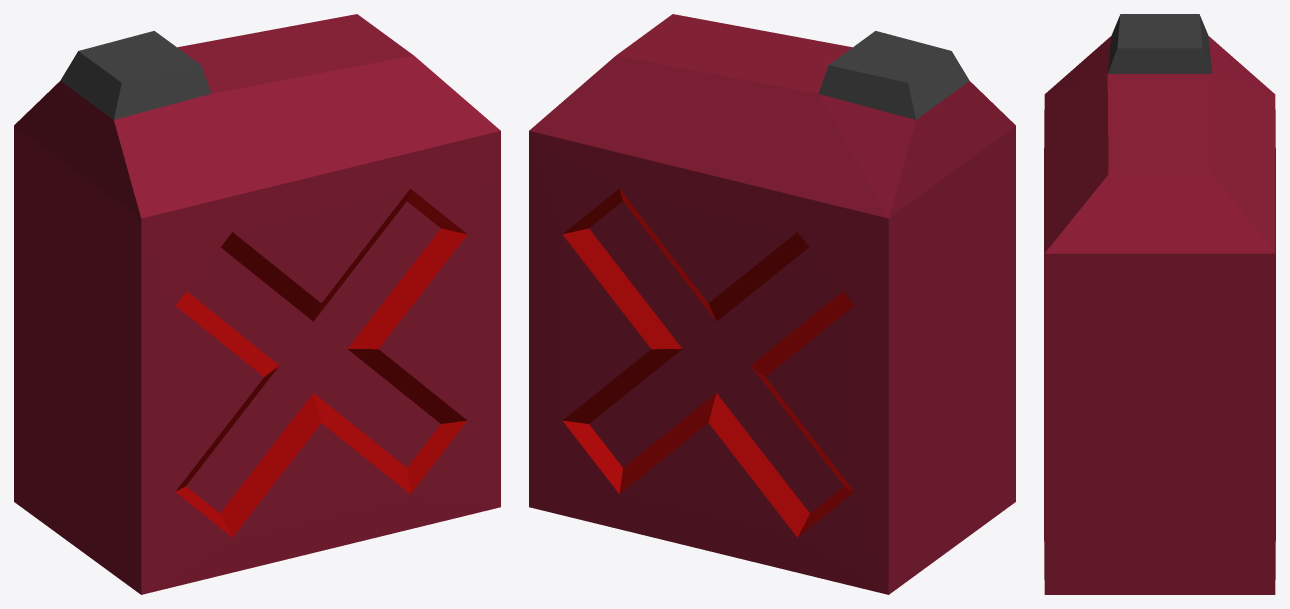
Rendered from Oil.fbx.
3 views of the same model, side by side, from view 1: azimuth 30°, elevation 25°; view 2: azimuth 150°, elevation 25°; view 3: azimuth 270°, elevation 25° (orthographic). The views are drawn at different scales.
Visible parts, largest first — view 1: Oil; view 2: Oil; view 3: Oil.
Part boxes in pixels (x1,y1,x2,y2): Oil: [14, 14, 500, 594]; Oil: [529, 14, 1015, 594]; Oil: [1044, 14, 1275, 594].
Size of the model in its own units: 30.53 by 38.61 by 18.8.
